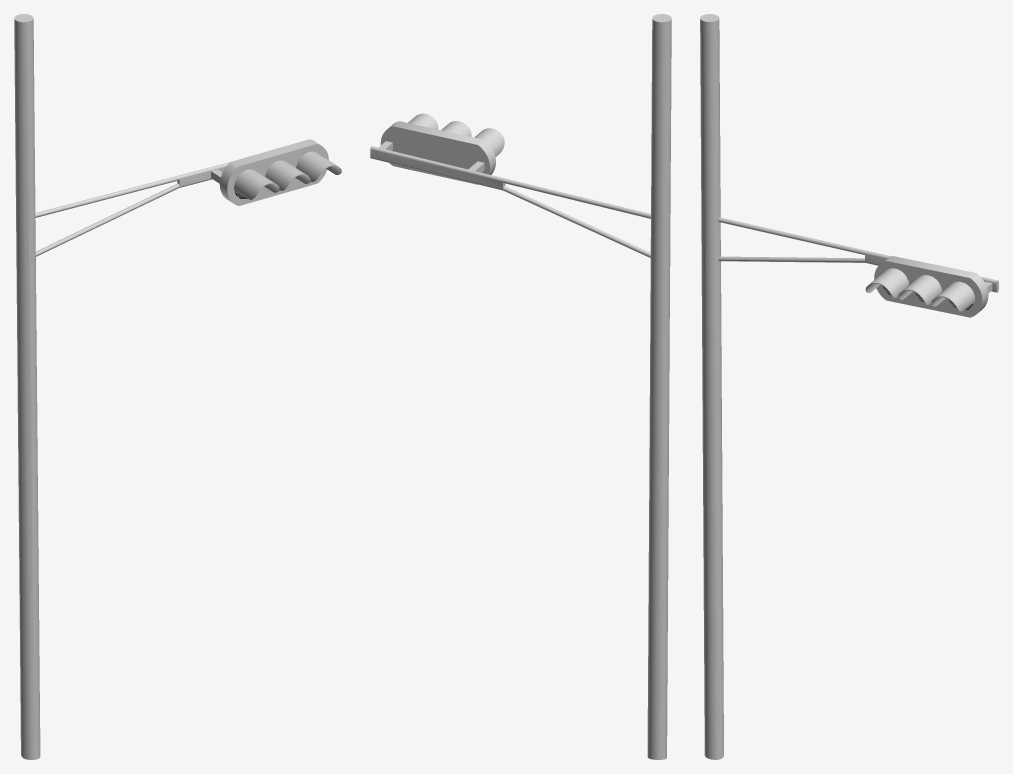
File: TrafficLight_Interactive_01_Mesh_LOD0.fbx
3 renders of one model, left to right at view 1: azimuth 30°, elevation 25°; view 2: azimuth 150°, elevation 25°; view 3: azimuth 330°, elevation 25°, orthographic.
Visible parts, largest first — view 1: StreetFurniture_TrafficLight_02_Mesh_LOD0; view 2: StreetFurniture_TrafficLight_02_Mesh_LOD0; view 3: StreetFurniture_TrafficLight_02_Mesh_LOD0.
Boxes of the visible parts, box(x1,y1,x2,y2) form: StreetFurniture_TrafficLight_02_Mesh_LOD0: box(14, 14, 341, 759); StreetFurniture_TrafficLight_02_Mesh_LOD0: box(370, 14, 671, 759); StreetFurniture_TrafficLight_02_Mesh_LOD0: box(700, 14, 998, 759).
Size of the model in its own units: 353 by 838 by 88.25.
4 materials, 3 textured.
